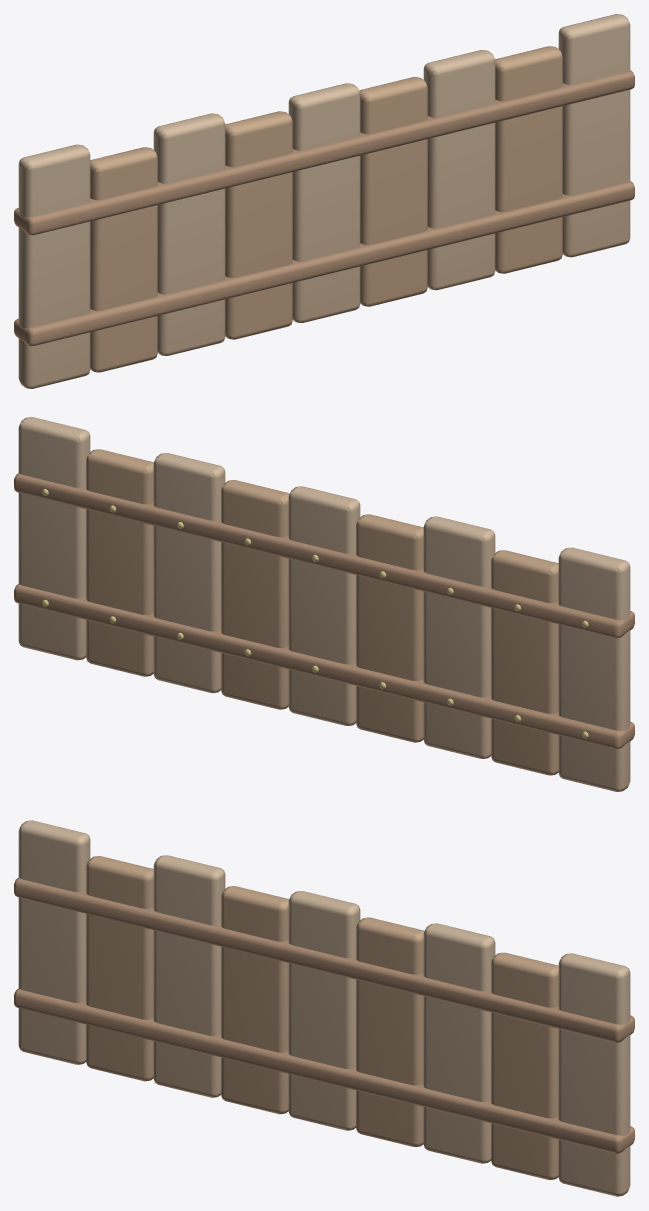
File: wall1.glb
3 renders of one model, top to bottom at view 1: azimuth 30°, elevation 25°; view 2: azimuth 150°, elevation 25°; view 3: azimuth 330°, elevation 25°, orthographic.
Visible parts, largest first — view 1: Body; view 2: Body; view 3: Body.
Boxes of the visible parts, x1=… form: Body: x1=14, y1=14, x2=634, y2=388; Body: x1=14, y1=417, x2=634, y2=791; Body: x1=14, y1=820, x2=634, y2=1196.
Bounding box in the file's own units: 39 × 14 × 2.11.
